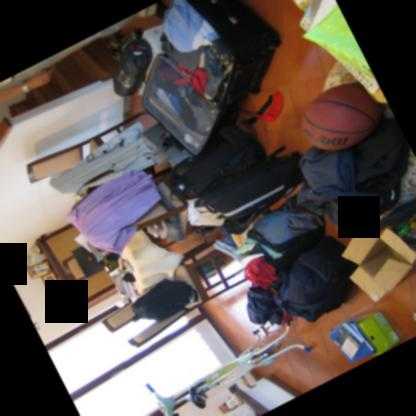backpack: (302, 119, 416, 227), (194, 143, 304, 233), (167, 123, 264, 198), (247, 284, 283, 323), (242, 254, 280, 290)
handbag: (130, 279, 198, 320)
suitcase: (139, 0, 282, 153)
